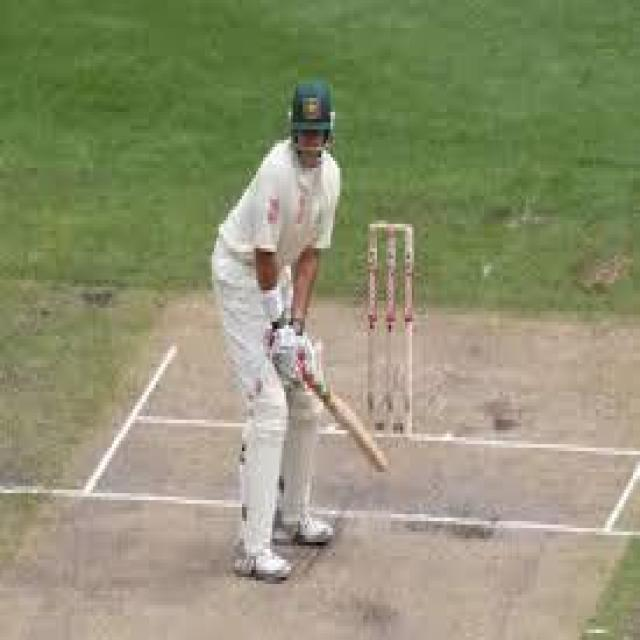bat: (310, 380, 388, 476)
toe: (368, 442, 389, 477)
